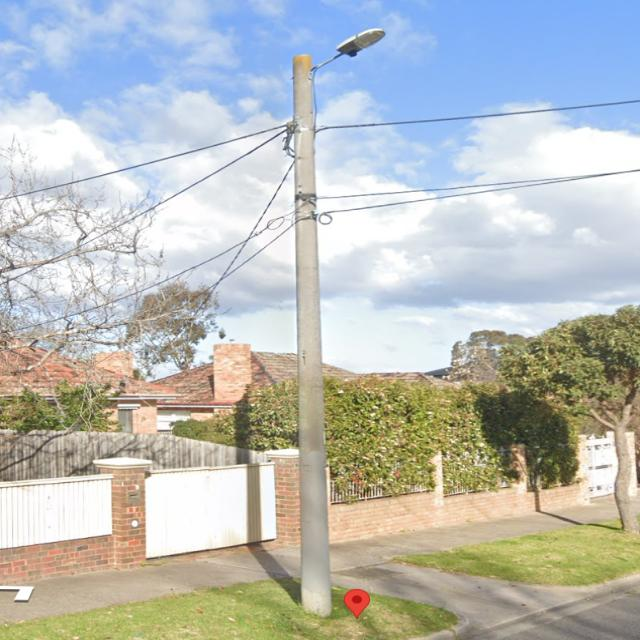concrete-pole: (292, 53, 331, 616)
streetlight: (312, 28, 386, 72)
top mount suitable pole: (291, 27, 388, 617)
